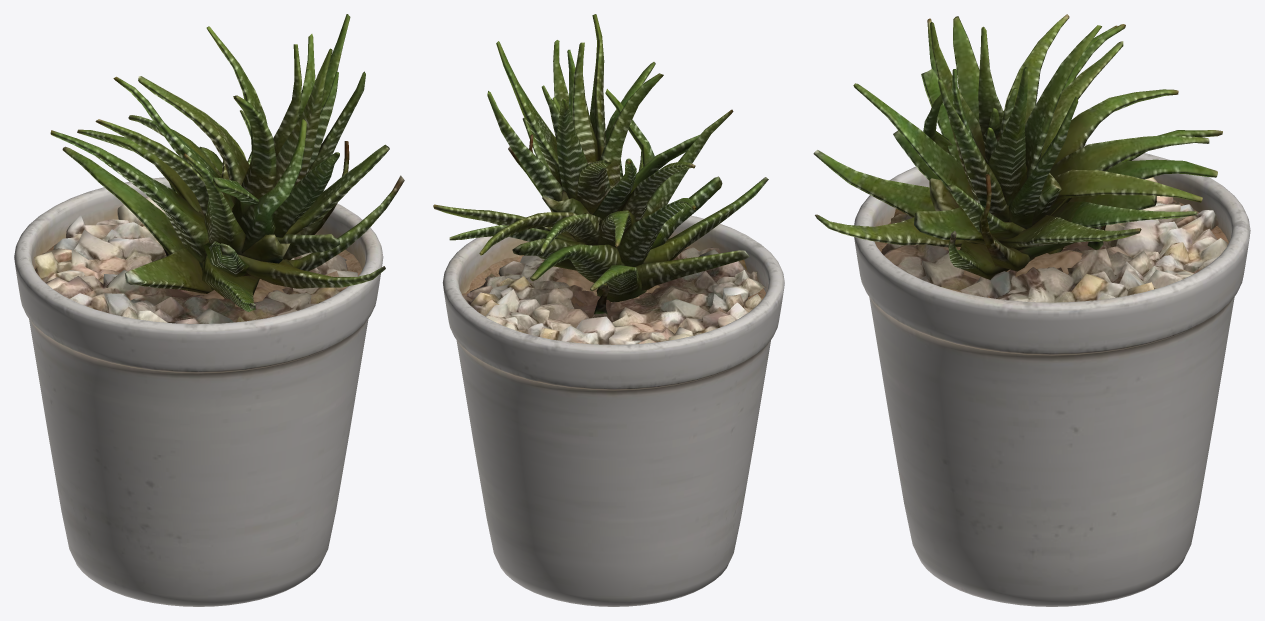
File: potted_plant_04.glb
3 renders of one model, left to right at view 1: azimuth 30°, elevation 25°; view 2: azimuth 150°, elevation 25°; view 3: azimuth 270°, elevation 25°, orthographic. The views are drawn at different scales.
Visible parts, largest first — view 1: potted_plant_04_ground; view 2: potted_plant_04_ground; view 3: potted_plant_04_ground.
Boxes of the visible parts, x1,y1,x2,y2 form: potted_plant_04_ground: (14,14,404,606); potted_plant_04_ground: (433,14,784,606); potted_plant_04_ground: (813,14,1250,606).
Size of the model in its own units: 0.1679 by 0.2675 by 0.1847.
Materials: 1 (1 with a texture image).
